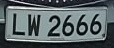2: (46, 13, 62, 38)
6: (60, 13, 76, 38), (74, 13, 90, 38), (88, 13, 104, 38)
L: (9, 11, 27, 36)
W: (25, 12, 43, 38)
